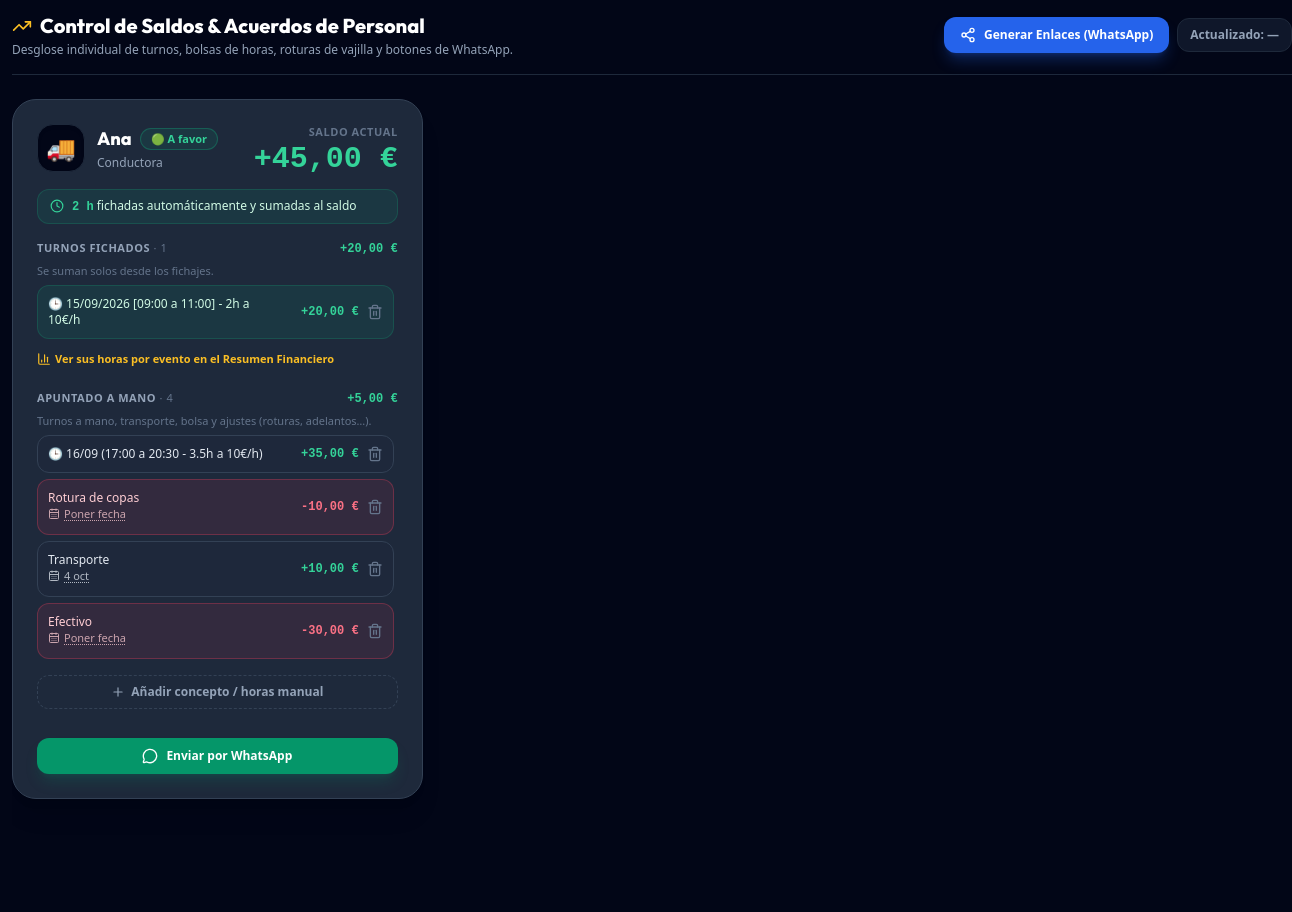
Scenario: TeamBalancesTab — el día de cada apunte a mano › al poner el día propone los que esa persona trabajó, y con un toque queda puesto
Click the button with aria-label "Poner el día de Efectivo".
click(87, 638)  # box [48,626,126,650]
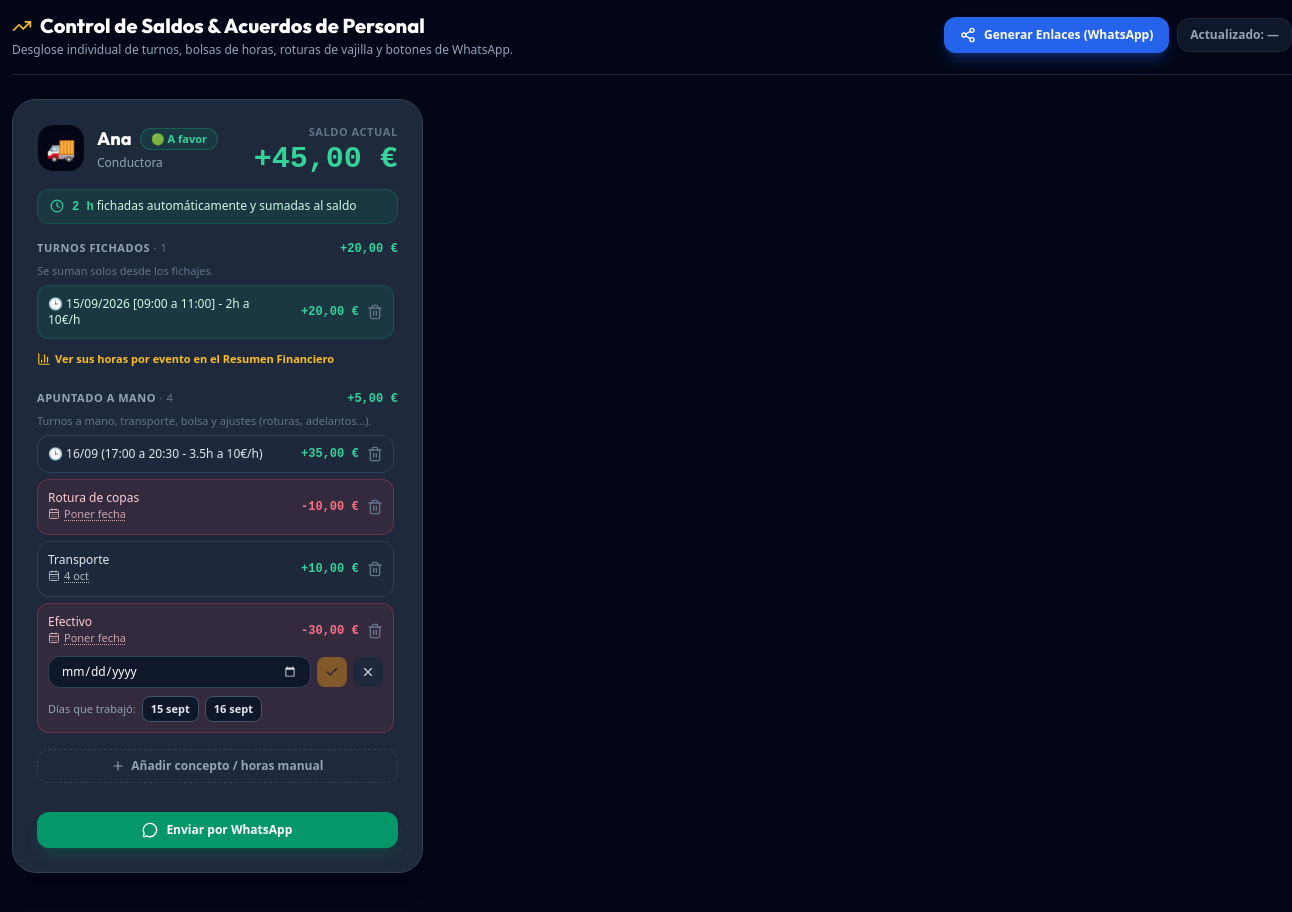
Expected: the text "Días que trabajó:" is shown, [48,701,136,716]
Click the button "15 sept".
click(170, 709)  # box [142,696,199,722]
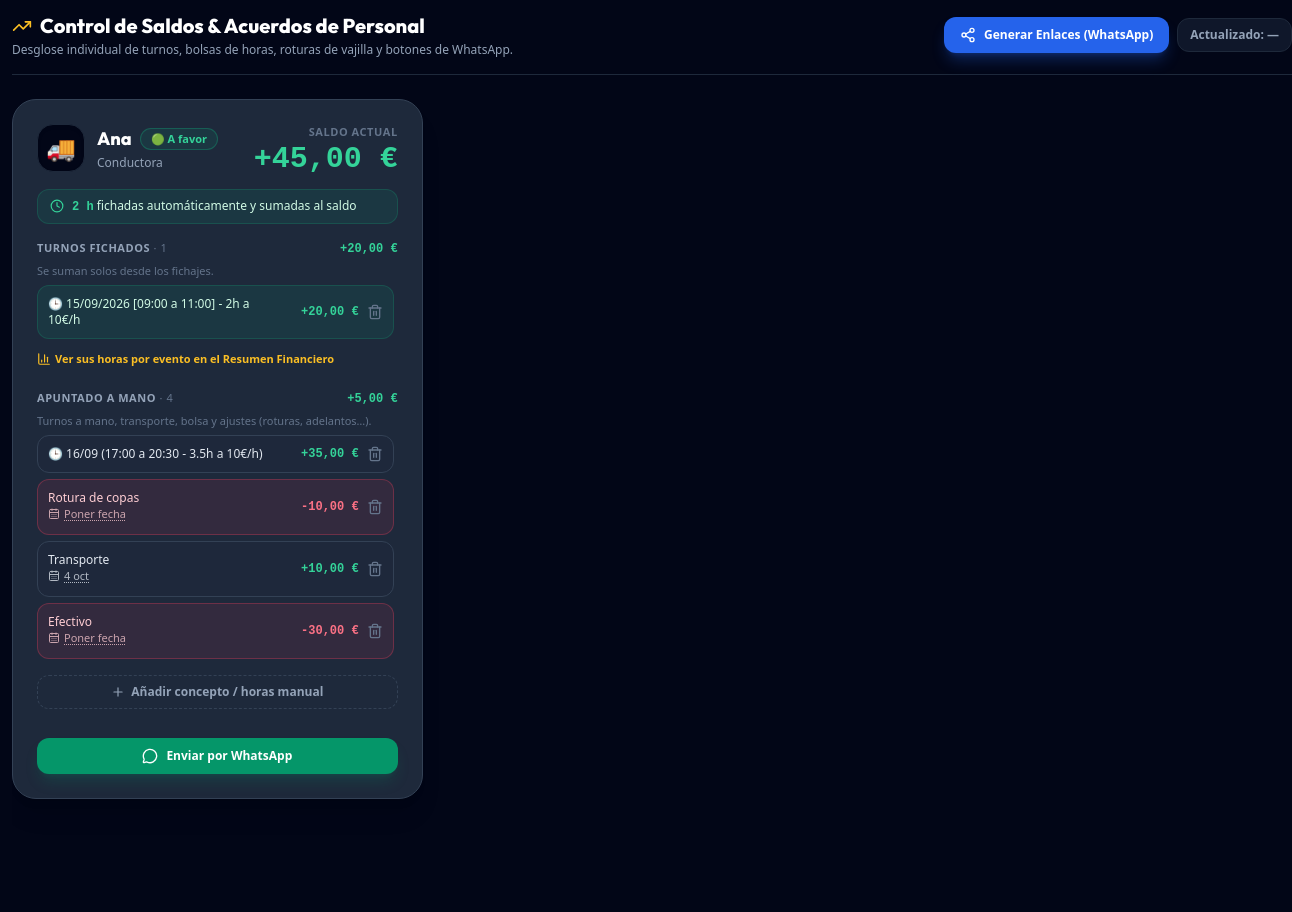
Expected: the text "Días que trabajó:" is gone
